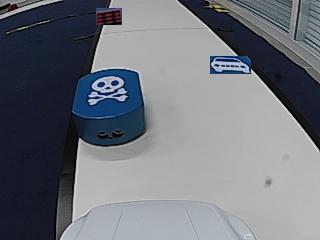danger: (88, 76, 125, 105)
